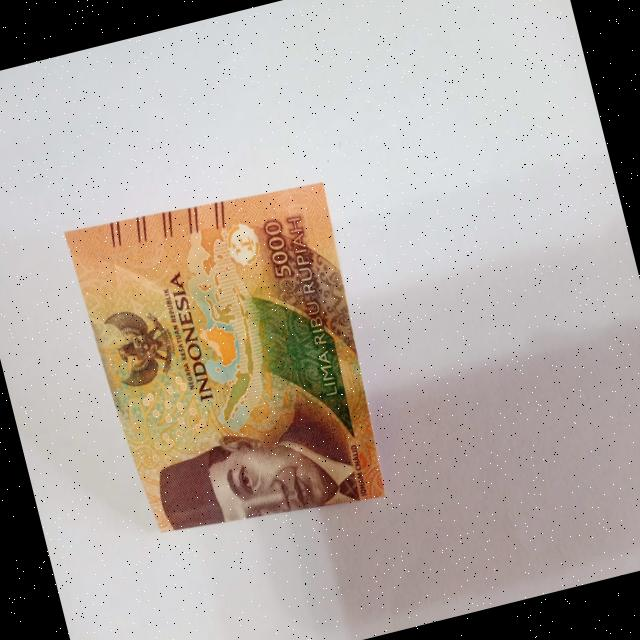5K: (51, 152, 408, 572)
